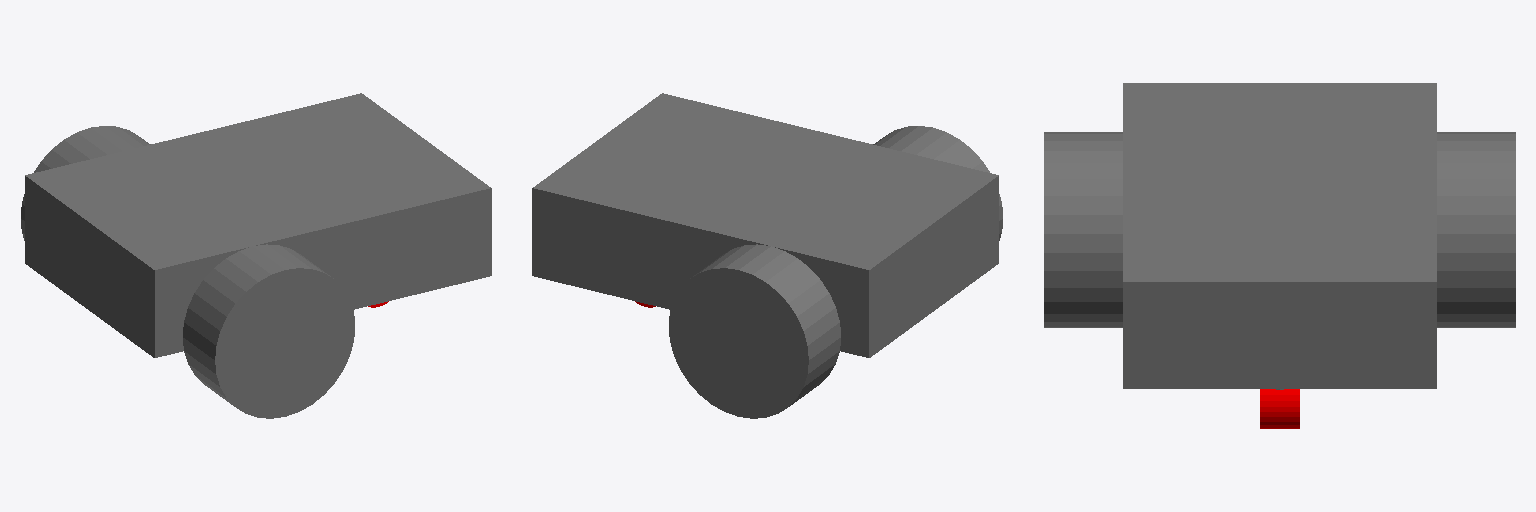
robot.urdf — my_robo:
<?xml version="1.0"?>
<robot name="my_robo" xmlns:xacro="http://ros.org/wiki/xacro">
  <material name="gray">
    <color rgba="0.5 0.5 0.5 2.5"/>
  </material>
  <material name="red">
    <color rgba="1.0 0.0 0.0 2.5"/>
  </material>

  <link name="base_link"/>

  <joint name="bodyjoint" type="fixed">
    <parent link="base_link"/>
    <child  link="body_link"/>
    <origin xyz="0.05 0 0.07" rpy="0 0 0"/>
  </joint>
  <link name="body_link">
    <visual>
      <origin xyz="0 0 0" rpy="0 0 0" />
      <geometry>
        <box size="0.24 0.16 0.06" />
      </geometry>
      <material name="gray" />
    </visual>
  </link>

  <joint name="left_wheel_joint" type="continuous">
    <parent link="base_link"/>
    <child  link="left_wheel_link"/>
    <origin xyz="0 0.1 0.05" rpy="-1.5708 0 0"/>
    <axis xyz="0 0 1" />
  </joint>
  <link name="left_wheel_link">
    <visual>
      <origin xyz="0 0 0" rpy="0 0 0" />
      <geometry>
        <cylinder radius="0.05" length="0.04" />
      </geometry>
      <material name="red">
        <color rgba="0.5 0.5 0.5 2.5"/>
      </material>
    </visual>
  </link>

  <joint name="right_wheel_joint" type="continuous">
    <parent link="base_link"/>
    <child  link="right_wheel_link"/>
    <origin xyz="0 -0.1 0.05" rpy="1.5708 0 0"/>
    <axis xyz="0 0 1" />
  </joint>
  <link name="right_wheel_link">
    <visual>
      <origin xyz="0 0 0" rpy="0 0 0" />
      <geometry>
        <cylinder radius="0.05" length="0.04" />
      </geometry>
      <material name="red">
        <color rgba="0.5 0.5 0.5 2.5"/>
      </material>
    </visual>
  </link>

  <joint name="front_steer_joint" type="continuous">
    <parent link="base_link"/>
    <child  link="front_steer_link"/>
    <origin xyz="0.14 0 0.05" rpy="0 0 0"/>
    <axis xyz="0 0 1" />
  </joint>
  <link name="front_steer_link">
   <visual>
     <origin xyz="0 0 0" rpy="0 0 0" />
     <geometry>
       <cylinder radius="0.01" length="0.04" />
     </geometry>
     <material name="gray" />
   </visual>
  </link>

  <joint name="front_wheel_joint" type="continuous">
    <parent link="front_steer_link"/>
    <child  link="front_wheel_link"/>
    <origin xyz="-0.01 0 -0.035" rpy="1.5708 0 0"/>
    <axis xyz="0 0 1" />
  </joint>
  <link name="front_wheel_link">
    <visual>
      <origin xyz="0 0 0" rpy="0 0 0" />
      <geometry>
        <cylinder radius="0.015" length="0.02" />
      </geometry>
      <material name="red" />
    </visual>
  </link>
</robot>

--- Facts derived from the render (not from the file) ---
The picture shows the robot from 3 angles, left to right: view 1: azimuth 30°, elevation 25°; view 2: azimuth 150°, elevation 25°; view 3: azimuth 270°, elevation 25°; orthographic projection.
Robot: my_robo — 6 links, 5 joints (4 continuous, 1 fixed); root link base_link; default pose: all joints at 0.
Visible links, largest first — view 1: body_link, right_wheel_link, left_wheel_link; view 2: body_link, left_wheel_link, right_wheel_link; view 3: body_link, left_wheel_link, right_wheel_link, front_wheel_link.
Boxes of the visible links, left/top/right/bottom form: body_link: left=25, top=93, right=491, bottom=357; right_wheel_link: left=183, top=244, right=354, bottom=418; left_wheel_link: left=21, top=126, right=150, bottom=240; body_link: left=532, top=93, right=998, bottom=357; left_wheel_link: left=669, top=244, right=840, bottom=418; right_wheel_link: left=873, top=126, right=1002, bottom=240; body_link: left=1123, top=83, right=1436, bottom=388; left_wheel_link: left=1437, top=132, right=1515, bottom=327; right_wheel_link: left=1044, top=132, right=1122, bottom=327; front_wheel_link: left=1260, top=389, right=1299, bottom=428.
Bounding box of the posed robot: 0.24 × 0.24 × 0.1 m (x, y, z).
Geometry: primitives only (box / cylinder / sphere), no mesh files.